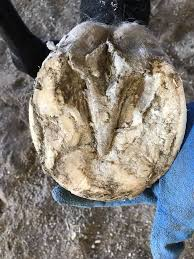horsesole: (28, 48, 188, 200)
